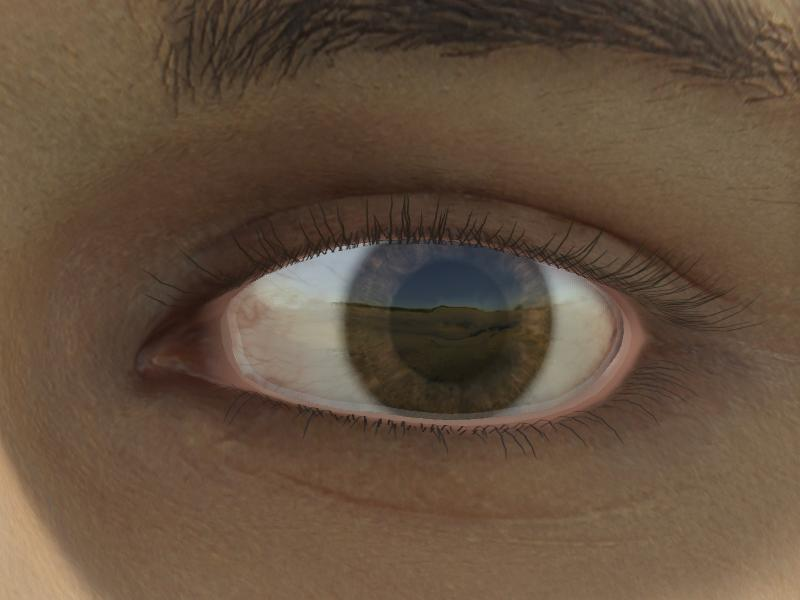eye: (346, 244, 551, 410)
